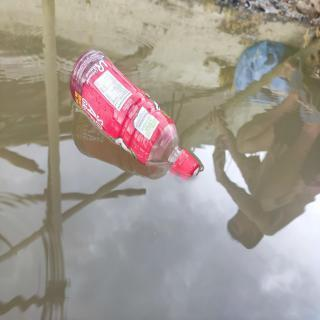bottle: (65, 43, 204, 184)
